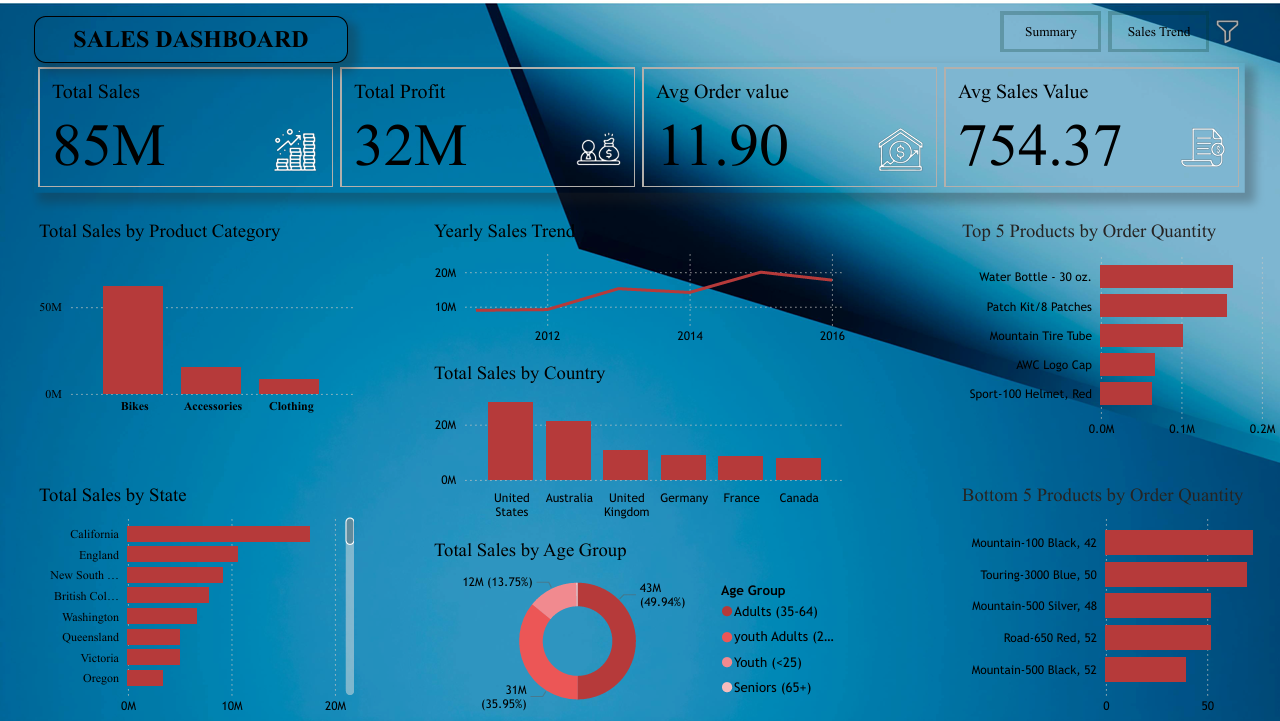

Layout of this report page (visuals, bound fields, positions):
{"tool":"powerbi","page":{"name":"Summary","canvas":[1280,720],"ordinal":0},"visuals":[{"type":"cardVisual","fields":{"Data":["sales_data.Total Sales","sales_data.Total Profit","sales_data.Avg Order value","sales_data.Avg Sales Value"]},"box":[34.1,61.5,1210.7,129.8],"z":0},{"type":"columnChart","title":"Total Sales by Product Category","fields":{"Y":["sales_data.Total Sales"],"Category":["sales_data.Product_Category"]},"box":[34.1,218.2,325,202],"z":1000},{"type":"barChart","fields":{"Category":["sales_data.State"],"Y":["sales_data.Total Sales"]},"box":[34.1,482.1,325,237.9],"z":2000},{"type":"barChart","title":"Top 5 Products by Order Quantity","fields":{"Category":["sales_data.Product"],"Y":["Sum(sales_data.Order_Quantity)"]},"box":[957,218.2,323.2,224.4],"z":3000},{"type":"lineChart","title":"Yearly Sales Trend","fields":{"Y":["sales_data.Total Sales"],"Category":["sales_data.Year"]},"box":[429.1,218.2,421,132],"z":4000},{"type":"columnChart","fields":{"Y":["sales_data.Total Sales"],"Category":["sales_data.Country"]},"box":[429.1,360,421,165.2],"z":5000},{"type":"barChart","title":"Bottom 5 Products by Order Quantity","fields":{"Category":["sales_data.Product"],"Y":["Sum(sales_data.Order_Quantity)"]},"box":[957,482.1,323.2,237.9],"z":6000},{"type":"donutChart","fields":{"Category":["sales_data.Age Group"],"Y":["sales_data.Total Sales"]},"box":[429.1,536.9,421,183.1],"z":7000},{"type":"textbox","box":[34.1,14.4,314.2,46.7],"z":8000},{"type":"actionButton","box":[1001.4,10.1,99.9,40.4],"z":9000},{"type":"actionButton","box":[1109.4,10.1,99.9,40.4],"z":10000},{"type":"image","box":[1210,11,35,37],"z":11000}]}

Visuals, with their boxes in screenshot pixels (x1, y1, x2, y2), scaled from the page's 1280x720 canvas onto the 1280x721 screenshot:
cardVisual - sales_data.Total Sales x sales_data.Total Profit: box=[34, 62, 1245, 192]
"Total Sales by Product Category" columnChart: box=[34, 219, 359, 421]
barChart - sales_data.State x sales_data.Total Sales: box=[34, 483, 359, 720]
"Top 5 Products by Order Quantity" barChart: box=[957, 219, 1279, 443]
"Yearly Sales Trend" lineChart: box=[429, 219, 850, 351]
columnChart - sales_data.Total Sales x sales_data.Country: box=[429, 360, 850, 526]
"Bottom 5 Products by Order Quantity" barChart: box=[957, 483, 1279, 720]
donutChart - sales_data.Age Group x sales_data.Total Sales: box=[429, 538, 850, 720]
textbox: box=[34, 14, 348, 61]
actionButton: box=[1001, 10, 1101, 51]
actionButton: box=[1109, 10, 1209, 51]
image: box=[1210, 11, 1245, 48]
